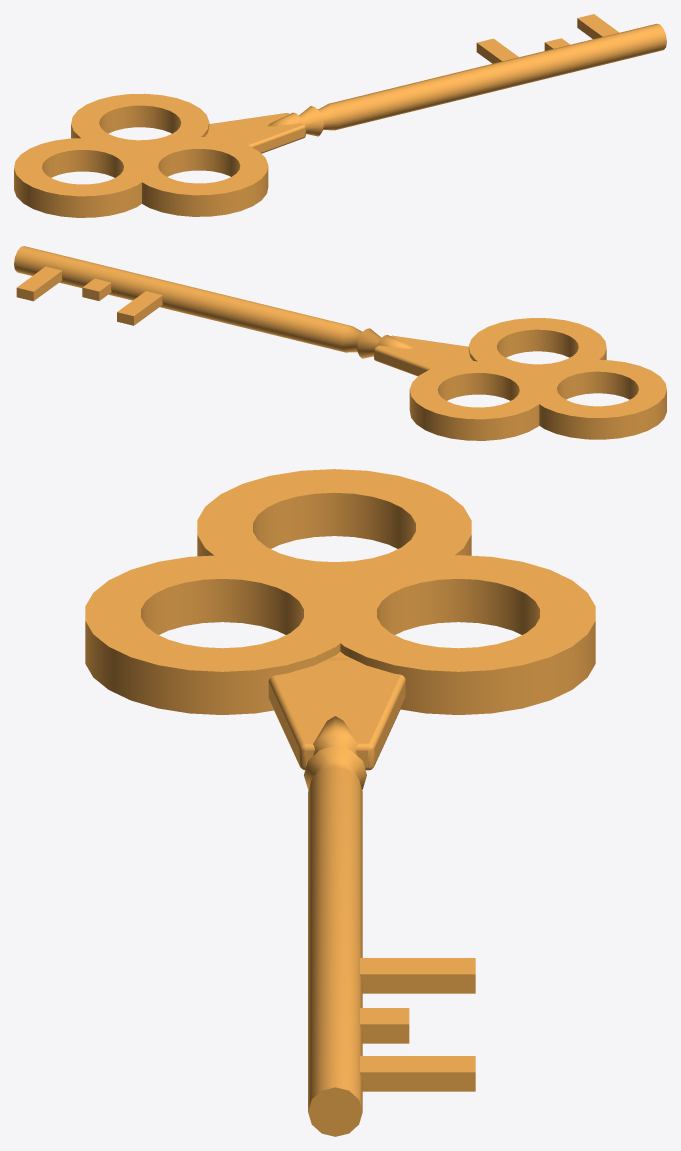
The model's file is key.fbx.
3 renders of one model, top to bottom at view 1: azimuth 30°, elevation 25°; view 2: azimuth 150°, elevation 25°; view 3: azimuth 270°, elevation 25°, orthographic. The views are drawn at different scales.
Visible parts, largest first — view 1: key; view 2: key; view 3: key.
Part boxes in pixels (x1,y1,x2,y2): key: (14,14,666,217); key: (14,246,666,440); key: (85,469,595,1136).
Bounding box in the file's own units: 99.96 × 4.3 × 34.7.
